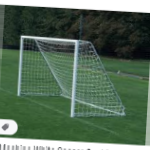goals: (16, 32, 128, 122)
